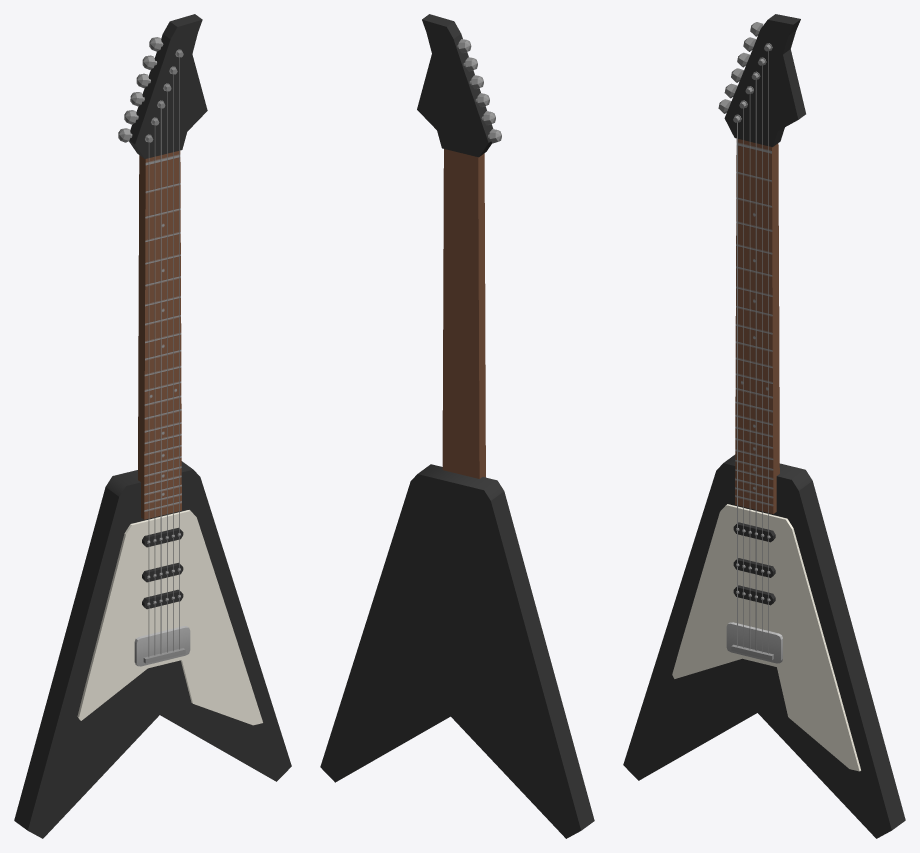
Rendered from ElectricGuitar2.fbx.
3 renders of one model, left to right at view 1: azimuth 30°, elevation 25°; view 2: azimuth 150°, elevation 25°; view 3: azimuth 330°, elevation 25°, orthographic. The views are drawn at different scales.
Parts seen in each view (by area): view 1: Electric_Guitar2; view 2: Electric_Guitar2; view 3: Electric_Guitar2.
Boxes of the visible parts, x1,y1,x2,y2 form: Electric_Guitar2: (14, 14, 291, 838); Electric_Guitar2: (320, 14, 594, 838); Electric_Guitar2: (623, 14, 905, 838).
Bounding box in the file's own units: 0.4191 × 1.19 × 0.0549.
Materials: 1 (1 with a texture image).
